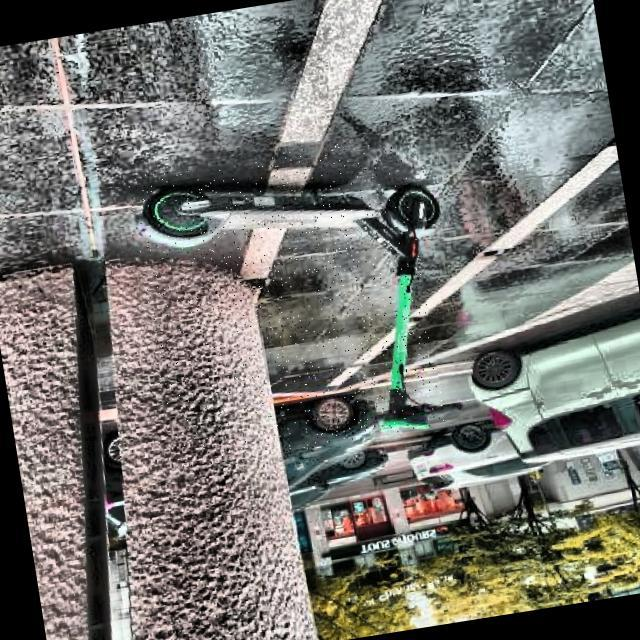bike: (141, 182, 515, 496), (261, 182, 512, 492)
